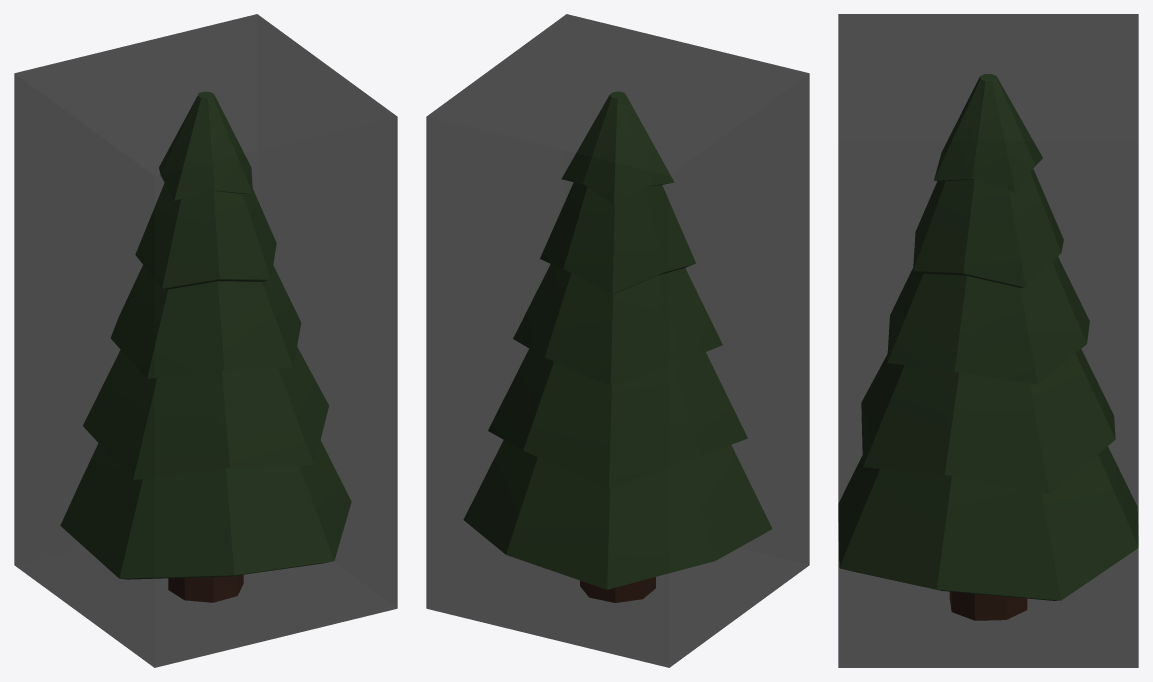
The model's file is Tree_Small.fbx.
The picture shows the model from 3 angles, left to right: view 1: azimuth 30°, elevation 25°; view 2: azimuth 150°, elevation 25°; view 3: azimuth 270°, elevation 25°; orthographic projection. The views are drawn at different scales.
Visible parts, largest first — view 1: Tree_Small_BBox, Tree_Small; view 2: Tree_Small_BBox, Tree_Small; view 3: Tree_Small_BBox, Tree_Small.
Boxes of the visible parts, box(x1,y1,x2,y2) form: Tree_Small_BBox: box(14, 14, 397, 667); Tree_Small: box(60, 91, 351, 602); Tree_Small_BBox: box(426, 14, 809, 667); Tree_Small: box(463, 91, 771, 602); Tree_Small_BBox: box(838, 14, 1138, 667); Tree_Small: box(838, 74, 1138, 620).
Size of the model in its own units: 6.97 by 13.49 by 6.97.
2 materials, 1 textured.
